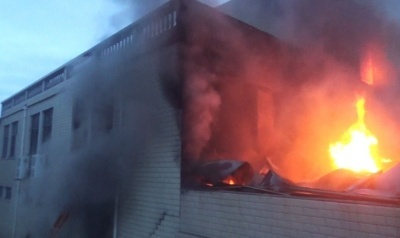fire: (326, 95, 387, 177)
